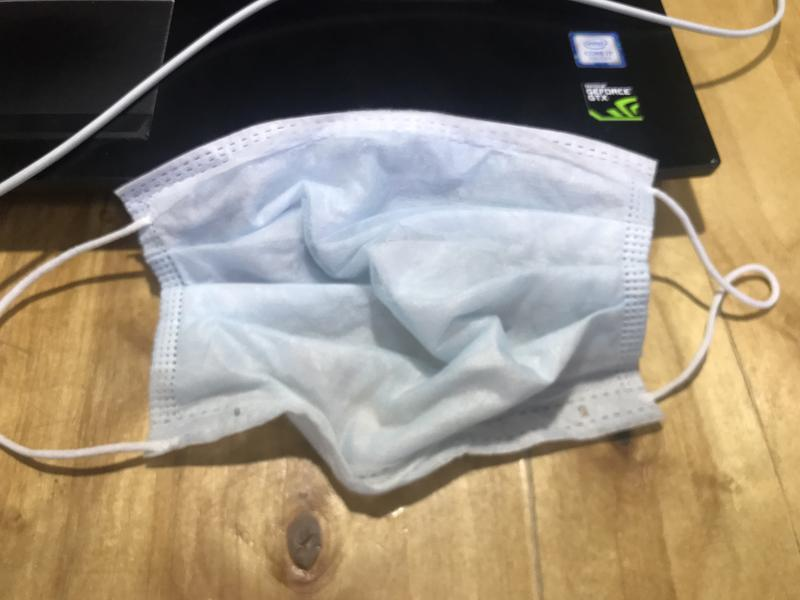medical_mask: (8, 107, 780, 497)
